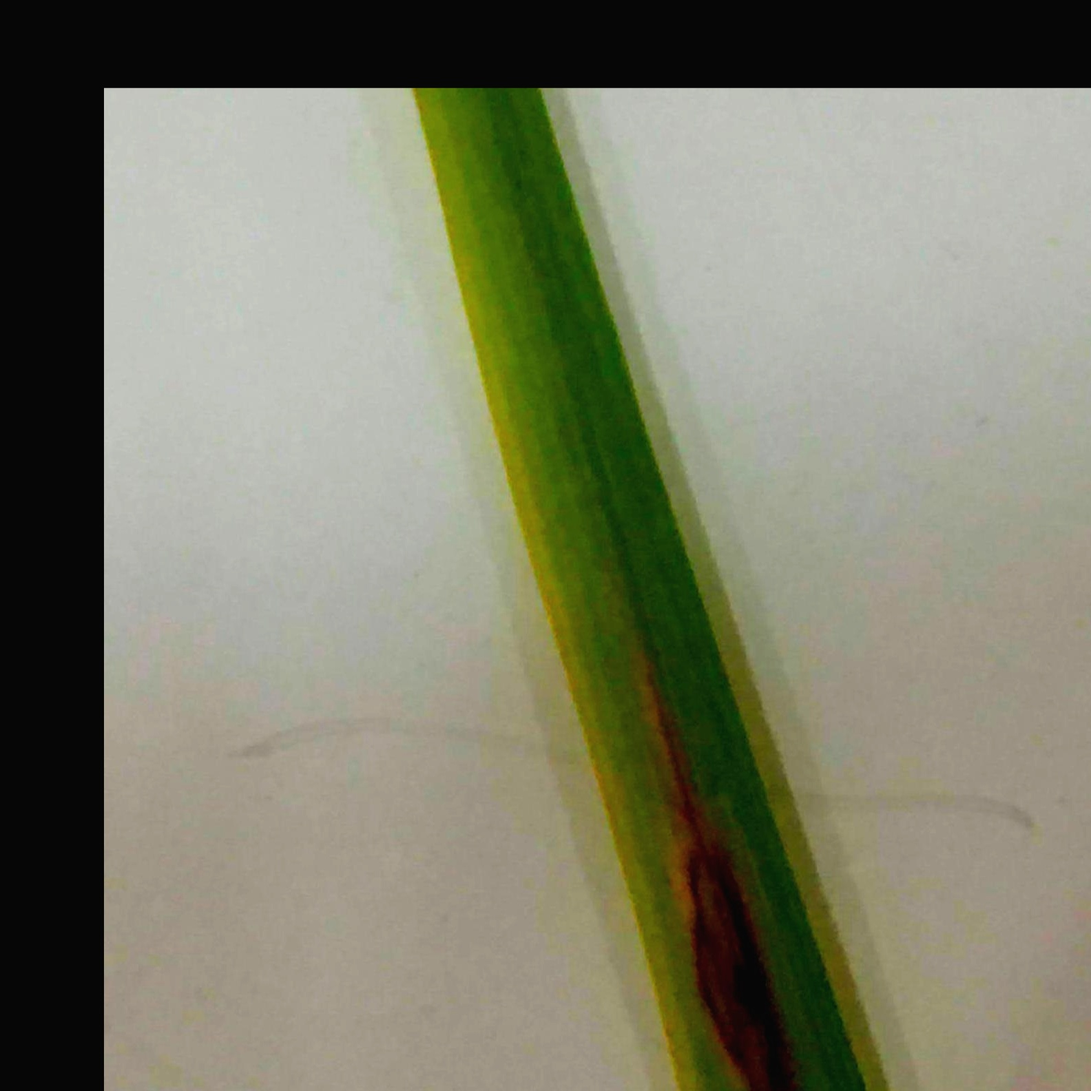Brown_Spot: (680, 763, 808, 1091)
